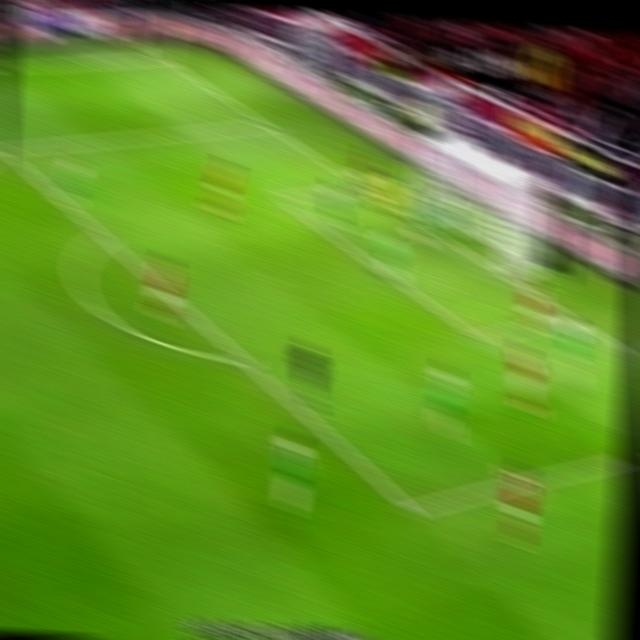bigarea_bottom_inner: (397, 493, 427, 527)
bigarea_top_inner: (0, 138, 15, 158)
bigarea_top_outter: (256, 114, 278, 133)
bottom_arc_area_intersection: (231, 347, 257, 372)
corner: (154, 51, 177, 65)
smallarea_bottom_inner: (466, 324, 491, 348)
smallarea_top_inner: (270, 189, 293, 209)
top_arc_area_intersection: (92, 226, 115, 245)
